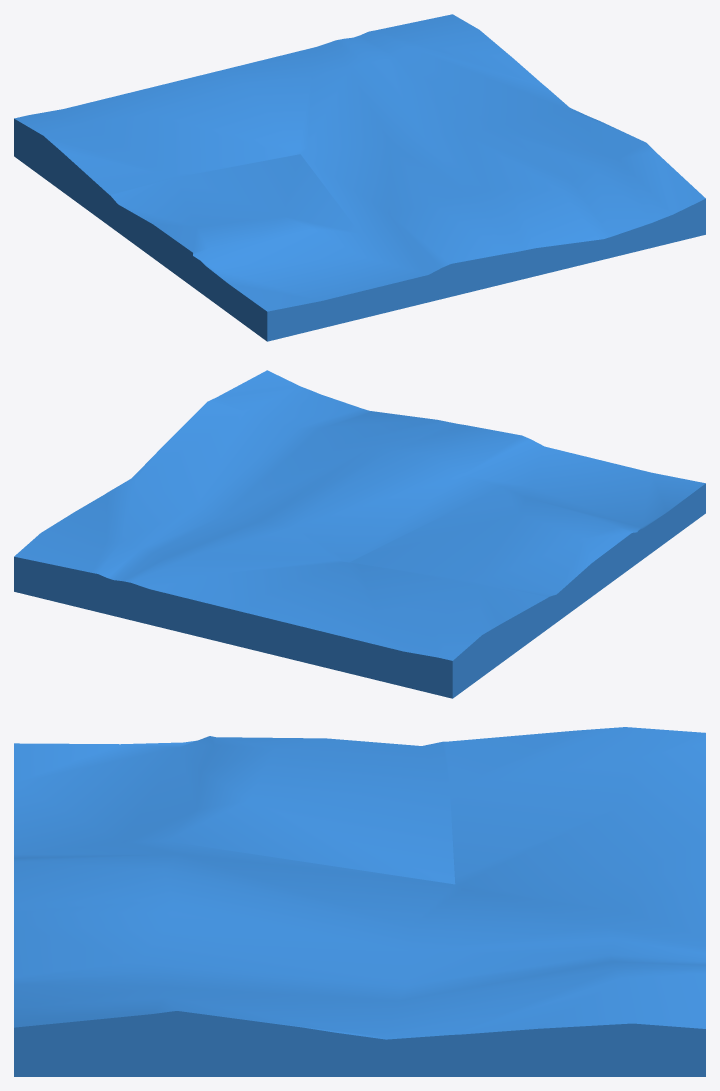
The model's file is Water_Chunk_Tile_01.fbx.
The picture shows the model from 3 angles, top to bottom: view 1: azimuth 30°, elevation 25°; view 2: azimuth 150°, elevation 25°; view 3: azimuth 270°, elevation 25°; orthographic projection. The views are drawn at different scales.
Visible parts, largest first — view 1: Water_Chunk_Tile_01; view 2: Water_Chunk_Tile_01; view 3: Water_Chunk_Tile_01.
Part boxes in pixels (x1,y1,x2,y2): Water_Chunk_Tile_01: (14, 14, 705, 341); Water_Chunk_Tile_01: (14, 370, 705, 698); Water_Chunk_Tile_01: (14, 727, 705, 1076).
Size of the model in its own units: 415 by 43.45 by 412.
